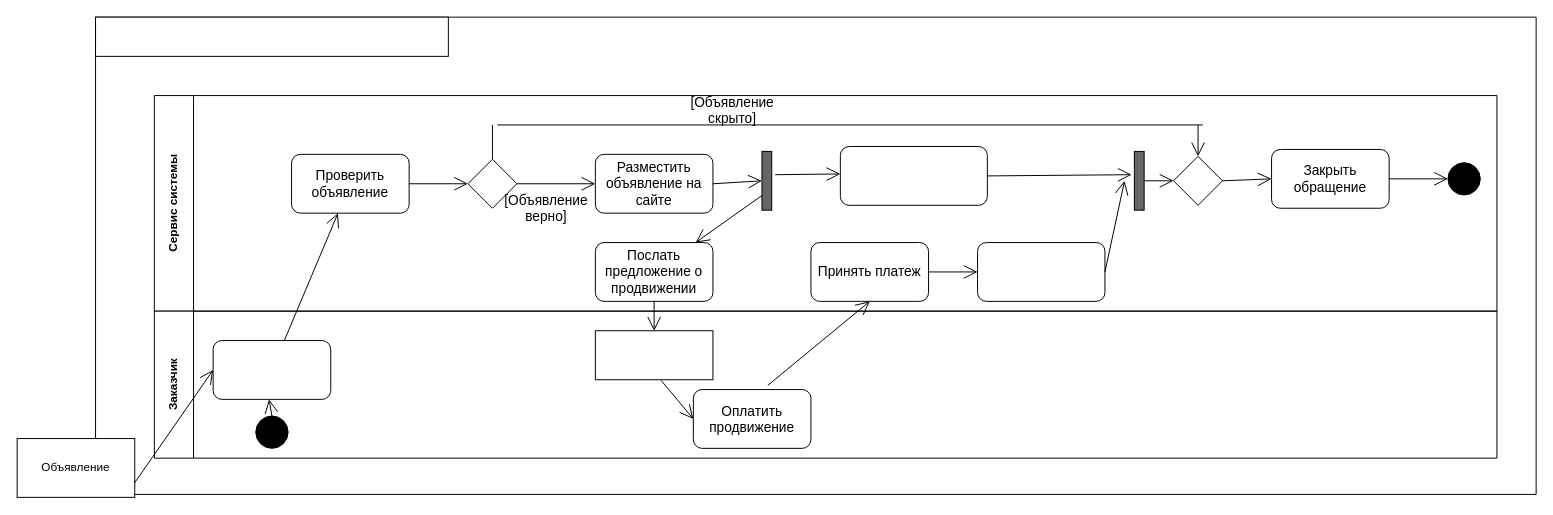
The diagram is 1553 pixels wide and 515 high, and some of its shapes have lost their labels. The centre of each missing label's shape, as x and y in pixels:
ad Разместить на сайте объявление об услуге: (271,36)
Послать уведомление на email: (913,175)
Предложение: (653,355)
Продвинуть объявление: (1041,271)
Создать объявление: (271,369)
